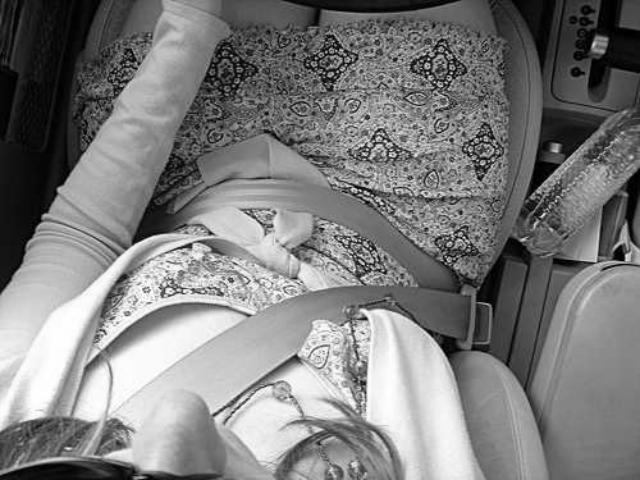Seatbelt: (108, 172, 494, 420)
